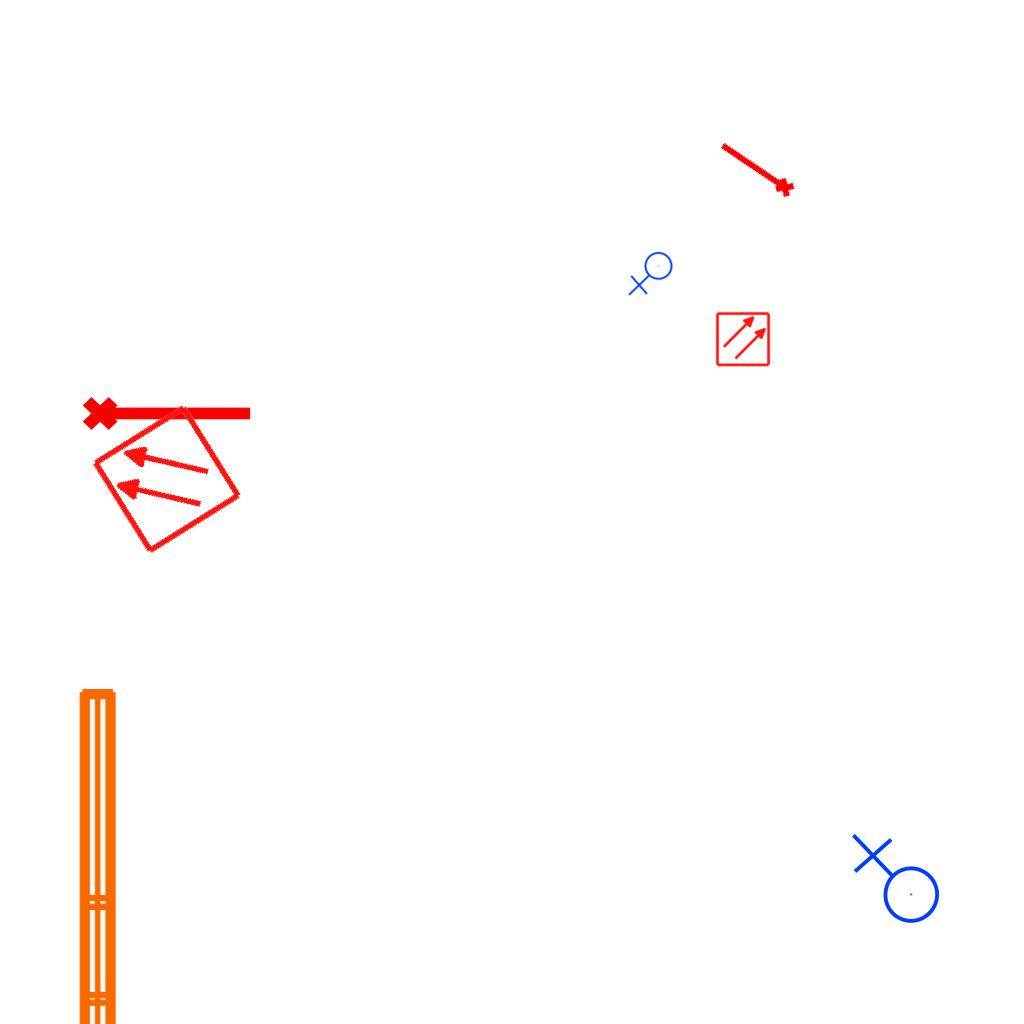ASR_Ansaugoeffnung: (80, 388, 256, 434), (713, 135, 799, 204)
Ambulanz_Pendelleuchte_LED: (67, 678, 179, 1024)
Elektroanschluss_allgemein_230V_Geraeteanschlussdose_230V: (847, 833, 941, 932), (628, 251, 677, 298)
RMO_Rauchmelder_optischer: (88, 401, 245, 558), (715, 311, 771, 367)
